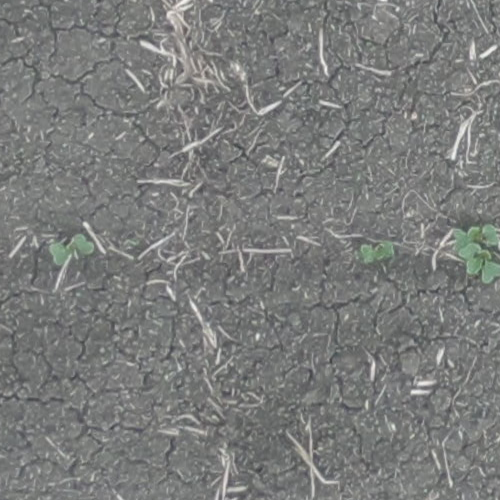plant: (453, 224, 499, 284), (48, 234, 93, 263), (360, 241, 393, 263)
